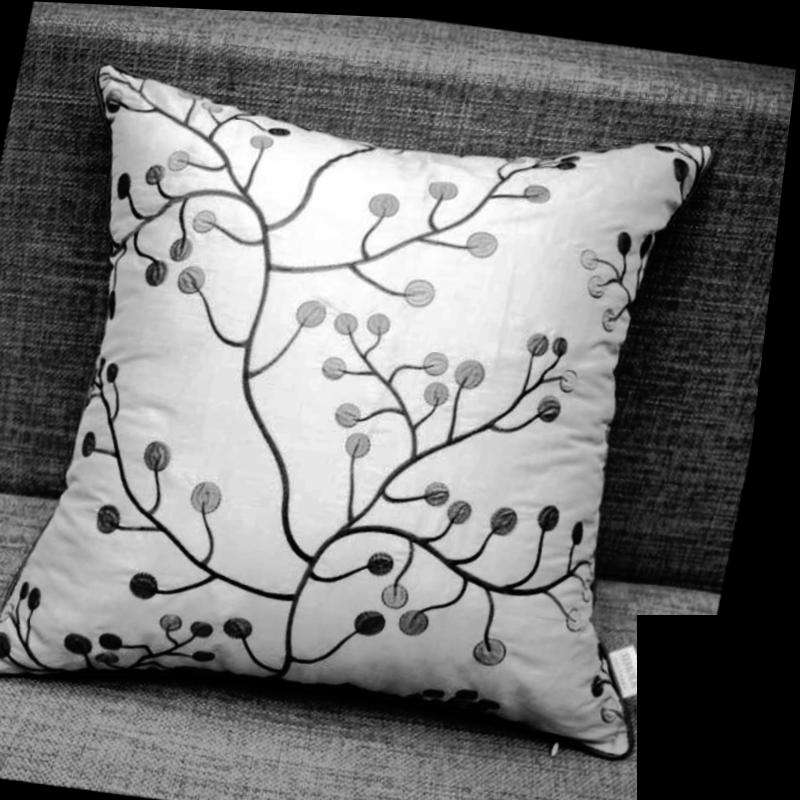pillow: (0, 63, 762, 749)
